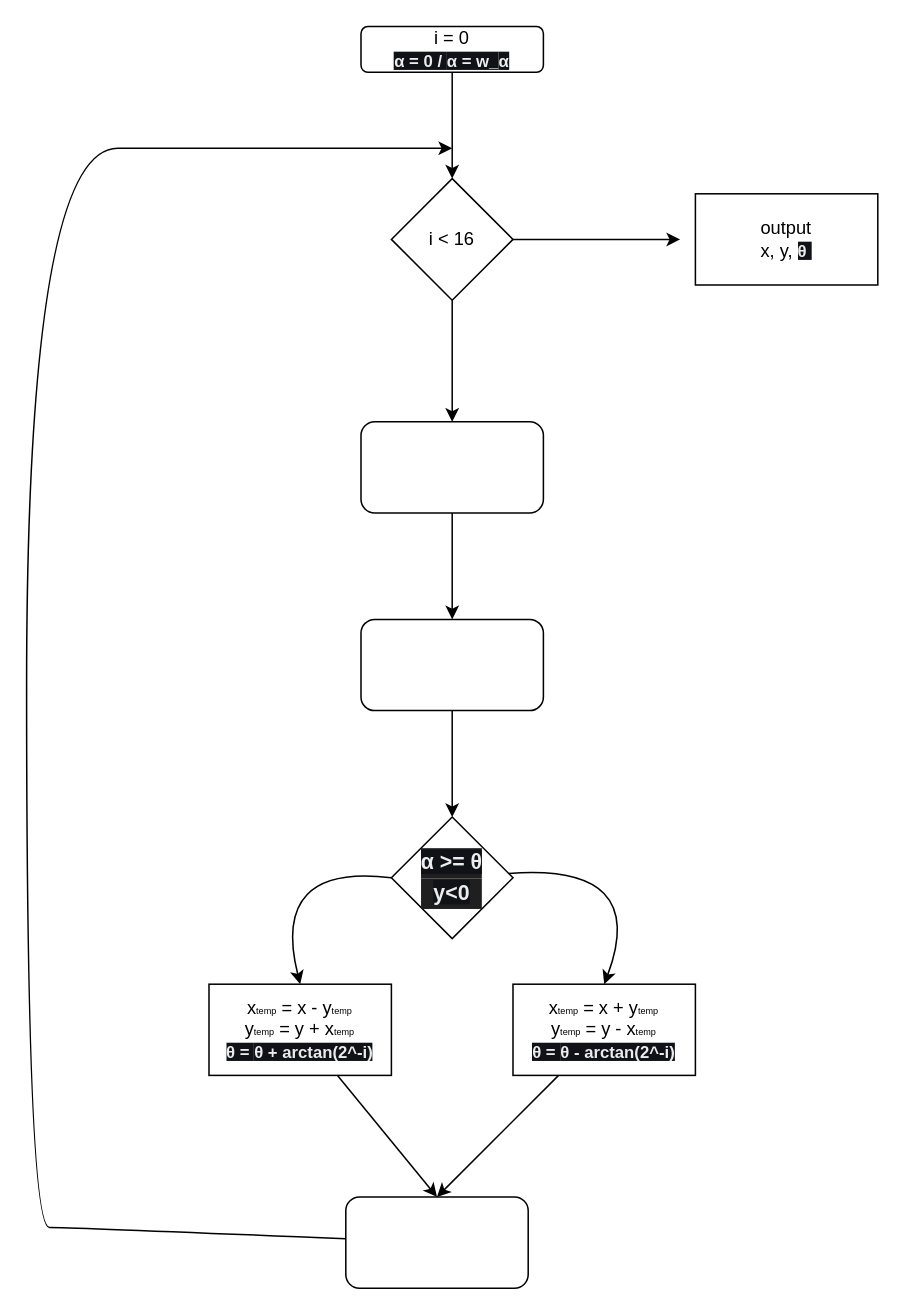
Image size: 904x1315. Some labels were removed from this diagram. Each missing label, with the centre of its shape:
"x = xtemp y = yemp i = i + 1" belongs at (436,1241).
"x temp ← x y temp ← y" belongs at (451,466).
"xtemp >> i ytemp >> i" belongs at (451,664).
